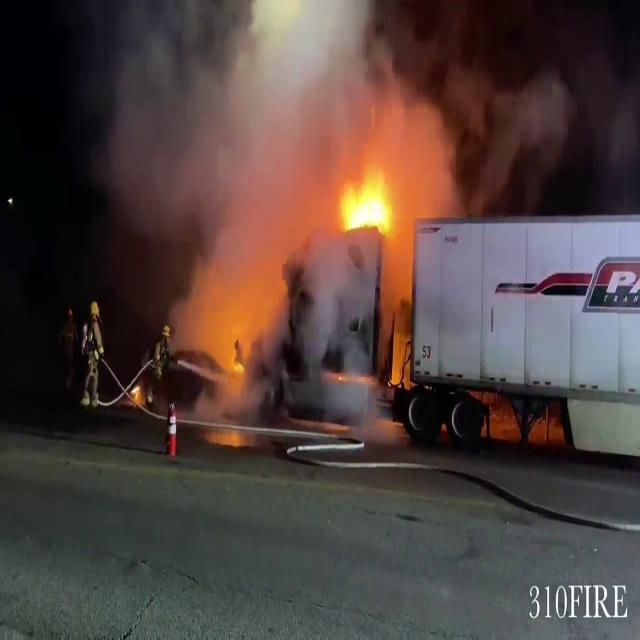Fire: (335, 164, 400, 249)
Smoke: (100, 0, 484, 398), (463, 48, 640, 210)
